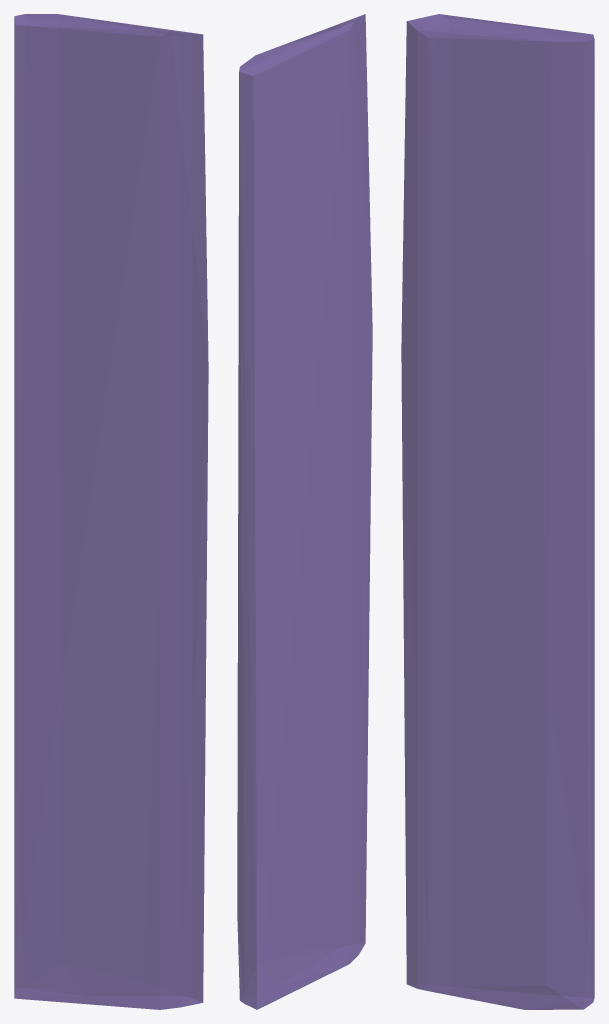
3 views of the same model, side by side, from view 1: azimuth 90°, elevation 25°; view 2: azimuth 150°, elevation 25°; view 3: azimuth 270°, elevation 25° (orthographic). The views are drawn at different scales.
Visible parts, largest first — view 1: Shape_IndexedFaceSet.012_Shape_IndexedFaceSet.8611; view 2: Shape_IndexedFaceSet.012_Shape_IndexedFaceSet.8611; view 3: Shape_IndexedFaceSet.012_Shape_IndexedFaceSet.8611.
Boxes of the visible parts, left/top/right/bottom form: Shape_IndexedFaceSet.012_Shape_IndexedFaceSet.8611: left=14, top=14, right=208, bottom=1009; Shape_IndexedFaceSet.012_Shape_IndexedFaceSet.8611: left=237, top=14, right=372, bottom=1009; Shape_IndexedFaceSet.012_Shape_IndexedFaceSet.8611: left=401, top=14, right=594, bottom=1009.
Size of the model in its own units: 0.0501 by 1.01 by 0.1803.
